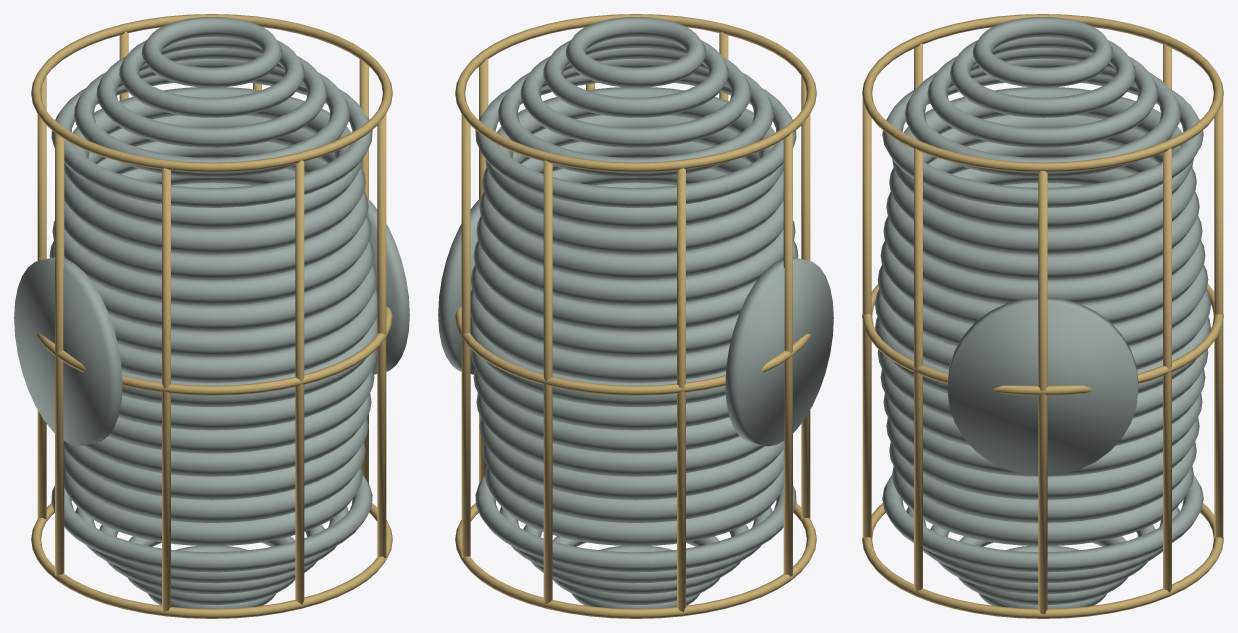
Rendered from lens_off.glb.
The picture shows the model from 3 angles, left to right: view 1: azimuth 30°, elevation 25°; view 2: azimuth 150°, elevation 25°; view 3: azimuth 270°, elevation 25°; orthographic projection.
Visible parts, largest first — view 1: lens; view 2: lens; view 3: lens.
Part boxes in pixels (x1,y1,x2,y2): lens: (14,14,409,618); lens: (438,14,833,618); lens: (862,14,1223,618).
Bounding box in the file's own units: 1.44 × 2.39 × 1.44.
